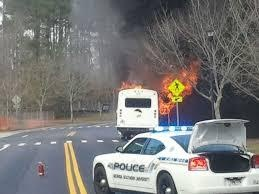fire: (118, 61, 202, 113)
